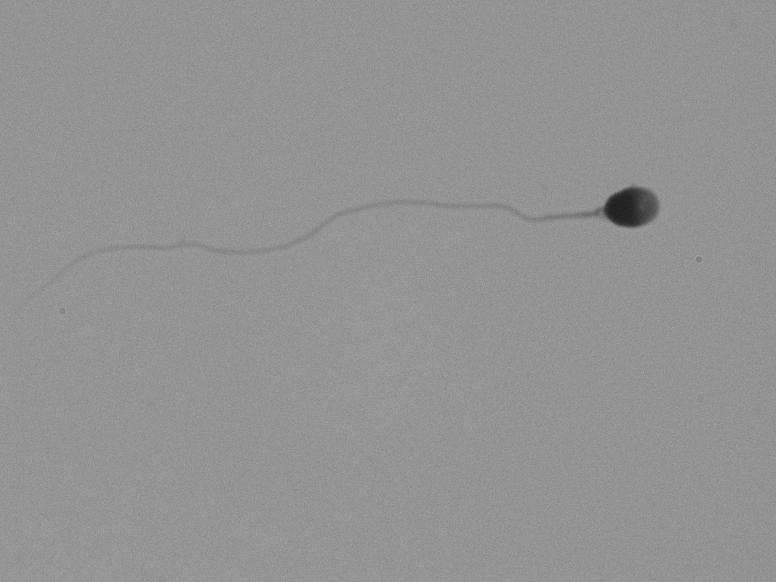Normal: (33, 137, 679, 356)
